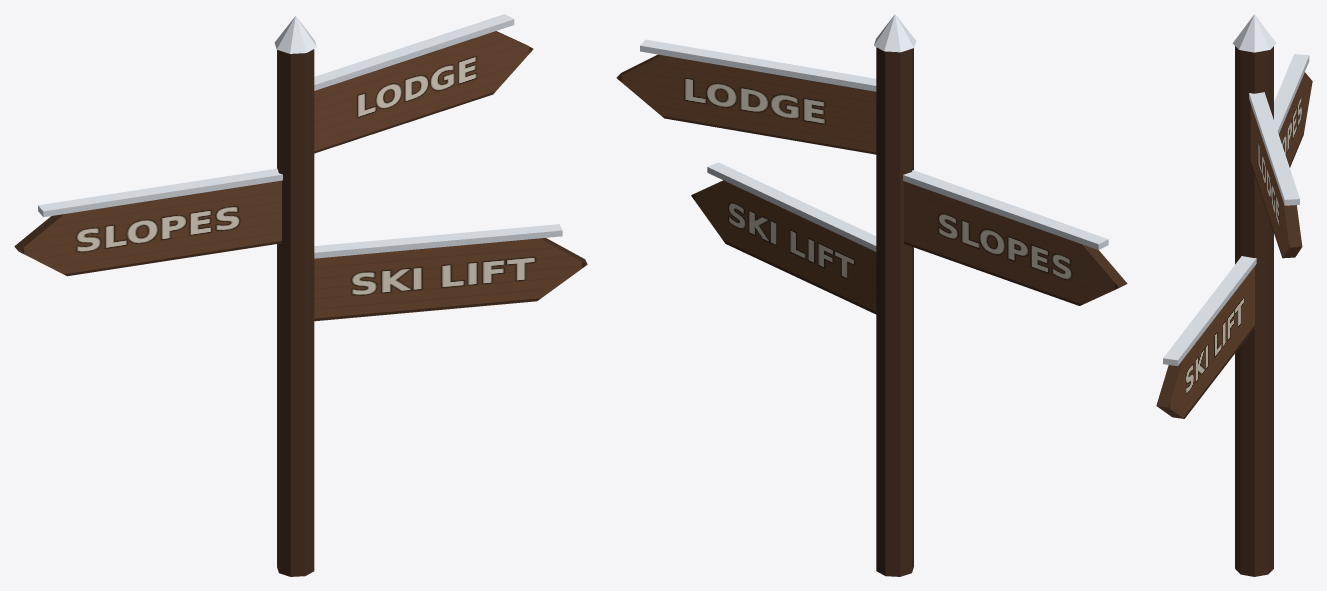
The model's file is signpost.obj.
The picture shows the model from 3 angles, left to right: view 1: azimuth 30°, elevation 25°; view 2: azimuth 150°, elevation 25°; view 3: azimuth 270°, elevation 25°; orthographic projection.
Parts seen in each view (by area): view 1: signpost_Signs, signpost_Main; view 2: signpost_Signs, signpost_Main; view 3: signpost_Main, signpost_Signs.
Part boxes in pixels (box(x1,y1,x2,y2)): signpost_Signs: box(14, 31, 587, 321); signpost_Main: box(38, 14, 562, 576); signpost_Signs: box(616, 54, 1127, 314); signpost_Main: box(640, 14, 1108, 576); signpost_Main: box(1163, 14, 1309, 576); signpost_Signs: box(1156, 72, 1312, 418).
Bounding box in the file's own units: 9.12 × 9.45 × 2.41.
Materials: 4 (4 with a texture image).
